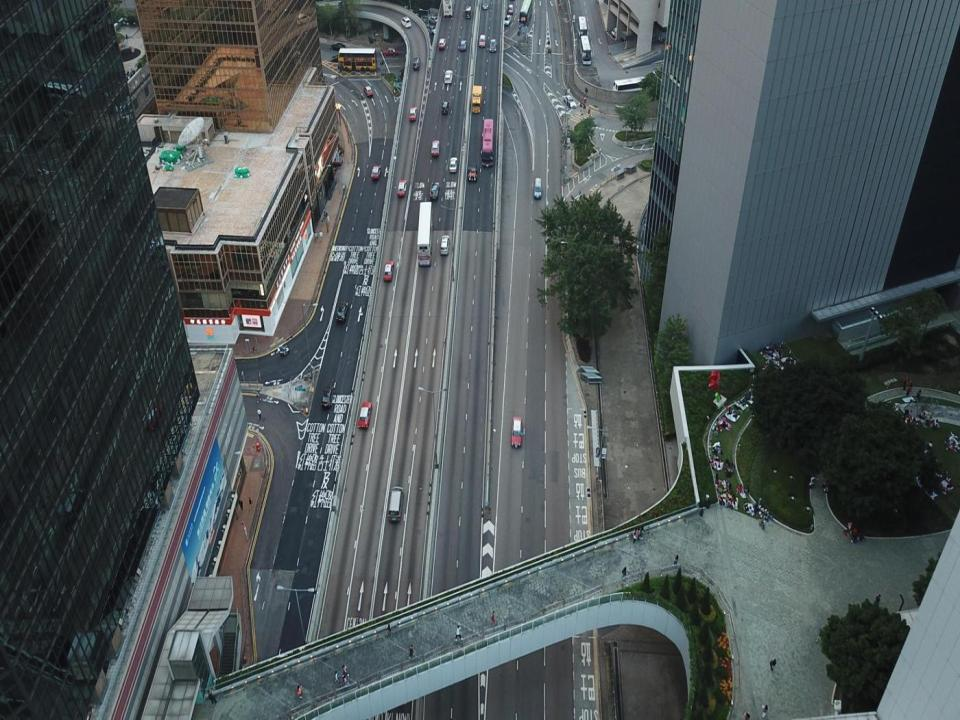bus: (417, 202, 433, 266), (338, 48, 377, 72), (613, 76, 657, 97), (481, 119, 493, 166), (520, 0, 532, 30), (580, 35, 591, 64), (578, 16, 587, 40), (614, 106, 636, 115), (442, 0, 453, 16)
car: (358, 402, 372, 428), (511, 416, 522, 448), (322, 387, 333, 408), (383, 260, 394, 280), (440, 235, 450, 255), (337, 302, 348, 320), (430, 181, 439, 200), (563, 95, 575, 108), (398, 178, 406, 197), (534, 178, 541, 198), (330, 42, 346, 50), (431, 140, 439, 155), (409, 106, 417, 121), (450, 156, 457, 172), (382, 48, 398, 55), (444, 70, 452, 84), (364, 85, 373, 97), (372, 165, 380, 178), (478, 35, 486, 48), (442, 100, 449, 114), (412, 58, 420, 70), (822, 478, 829, 491), (426, 25, 436, 34), (439, 38, 445, 52), (490, 38, 496, 52), (504, 15, 512, 25), (428, 16, 438, 24), (331, 55, 342, 62), (459, 40, 466, 50), (482, 0, 489, 9), (508, 4, 513, 12)
truck: (471, 84, 481, 112), (468, 162, 477, 181)
van: (388, 486, 402, 519), (612, 26, 622, 38), (402, 16, 411, 27), (465, 5, 472, 17)
